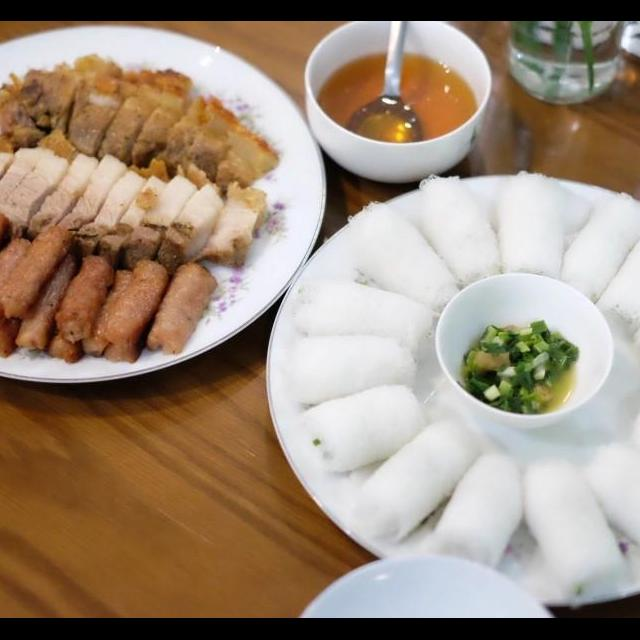banh hoi: (336, 414, 488, 554), (512, 448, 638, 600), (334, 195, 468, 318), (288, 270, 446, 364), (294, 378, 438, 477), (427, 446, 532, 580), (409, 168, 506, 294), (284, 326, 422, 408), (486, 165, 572, 292), (549, 187, 640, 307), (575, 434, 640, 578), (587, 214, 640, 343)
banh hoi heo quay: (0, 45, 640, 615)
thit heo quay: (0, 49, 281, 207), (0, 124, 270, 279)
